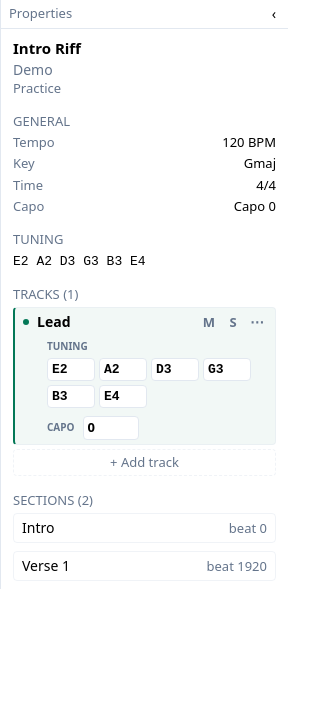
TabProperties › clicking + Add track expands inline form with Name and Instrument (TAB-009 T19)
Expected: the field labelled "Name" is not shown
Click the button "+ Add track" at point(144, 462), box [13,449,276,476]
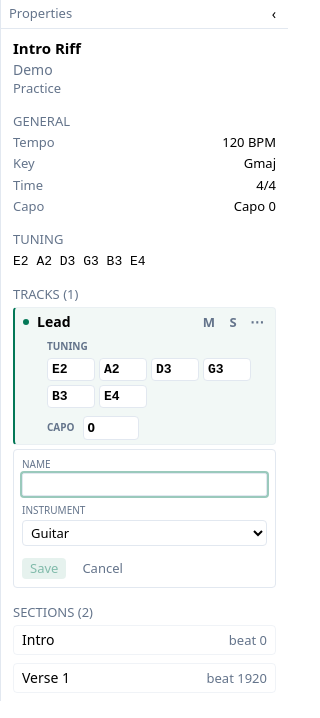
Result: the field labelled "Name" is shown at [22,473,267,496]
Result: the dropdown labelled "Instrument" is shown at [22,520,267,546]
